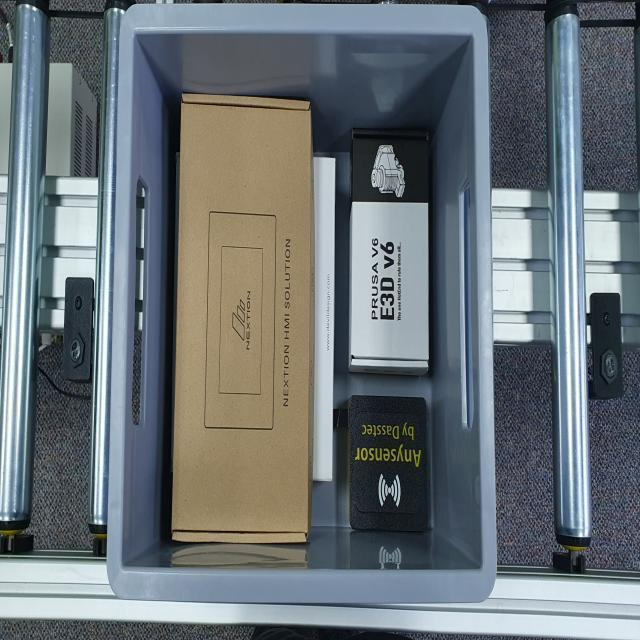box: (173, 95, 312, 549), (349, 124, 431, 374), (349, 395, 427, 537)
